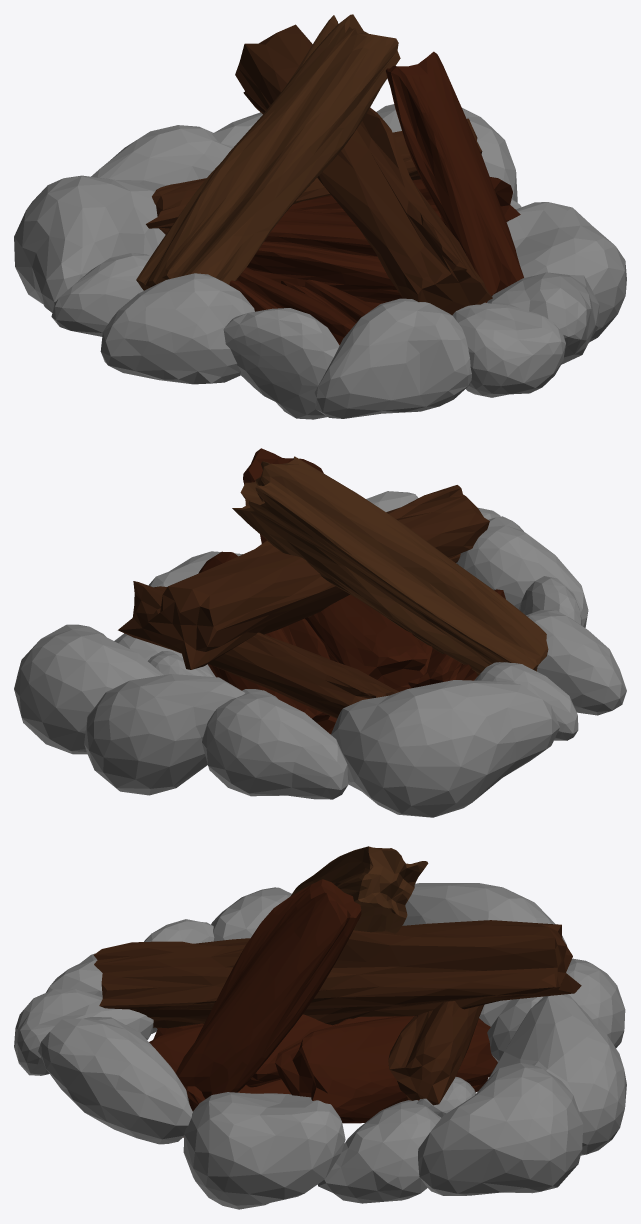
File: firecamp.fbx
The picture shows the model from 3 angles, top to bottom: view 1: azimuth 30°, elevation 25°; view 2: azimuth 150°, elevation 25°; view 3: azimuth 270°, elevation 25°; orthographic projection. The views are drawn at different scales.
Visible parts, largest first — view 1: rondin2, rondin1, rondin3.001, Sphere, Sphere.010, Sphere.006, Sphere.004, rondin3, Sphere.001, Sphere.017, Sphere.012, Sphere.002 (+8 smaller); view 2: rondin2, Sphere.010, rondin1, Sphere.013, Sphere.012, Sphere.014, rondin1.001, rondin3, Sphere.006, Sphere, rondin3.005, Sphere.007 (+7 smaller); view 3: rondin1, rondin3.001, Sphere.014, Sphere.017, Sphere.002, rondin3.005, Sphere.013, Sphere.016, rondin1.001, rondin2, Sphere.010, Sphere.001 (+8 smaller).
Part boxes in pixels (box(x1,y1,x2,y2)): rondin2: box(136, 14, 400, 290); rondin1: box(235, 24, 492, 314); rondin3.001: box(386, 51, 523, 301); Sphere: box(314, 298, 471, 418); Sphere.010: box(14, 175, 165, 312); Sphere.006: box(100, 273, 254, 384); Sphere.004: box(223, 308, 339, 419); rondin3: box(247, 209, 396, 290); Sphere.001: box(452, 302, 565, 397); Sphere.017: box(506, 202, 626, 342); Sphere.012: box(91, 125, 232, 189); Sphere.002: box(486, 272, 599, 364); rondin2: box(232, 456, 548, 675); Sphere.010: box(331, 680, 559, 817); rondin1: box(148, 485, 489, 669); Sphere.013: box(84, 674, 244, 795); Sphere.012: box(202, 689, 348, 799); Sphere.014: box(14, 624, 163, 754); rondin1.001: box(118, 581, 399, 718); rondin3: box(305, 594, 432, 691); Sphere.006: box(526, 610, 626, 715); Sphere: box(456, 516, 588, 627); rondin3.005: box(198, 551, 336, 734); Sphere.007: box(474, 662, 578, 740); rondin1: box(94, 920, 581, 1028); rondin3.001: box(175, 879, 361, 1098); Sphere.014: box(418, 1063, 583, 1195); Sphere.017: box(183, 1092, 345, 1209); Sphere.002: box(38, 1017, 192, 1144); rondin3.005: box(275, 1016, 497, 1123); Sphere.013: box(487, 994, 626, 1155); Sphere.016: box(317, 1100, 441, 1203); rondin1.001: box(388, 1001, 483, 1105); rondin2: box(290, 846, 428, 933); Sphere.010: box(402, 883, 566, 1026); Sphere.001: box(14, 989, 153, 1075).
Size of the model in its own units: 366 by 211 by 393.
